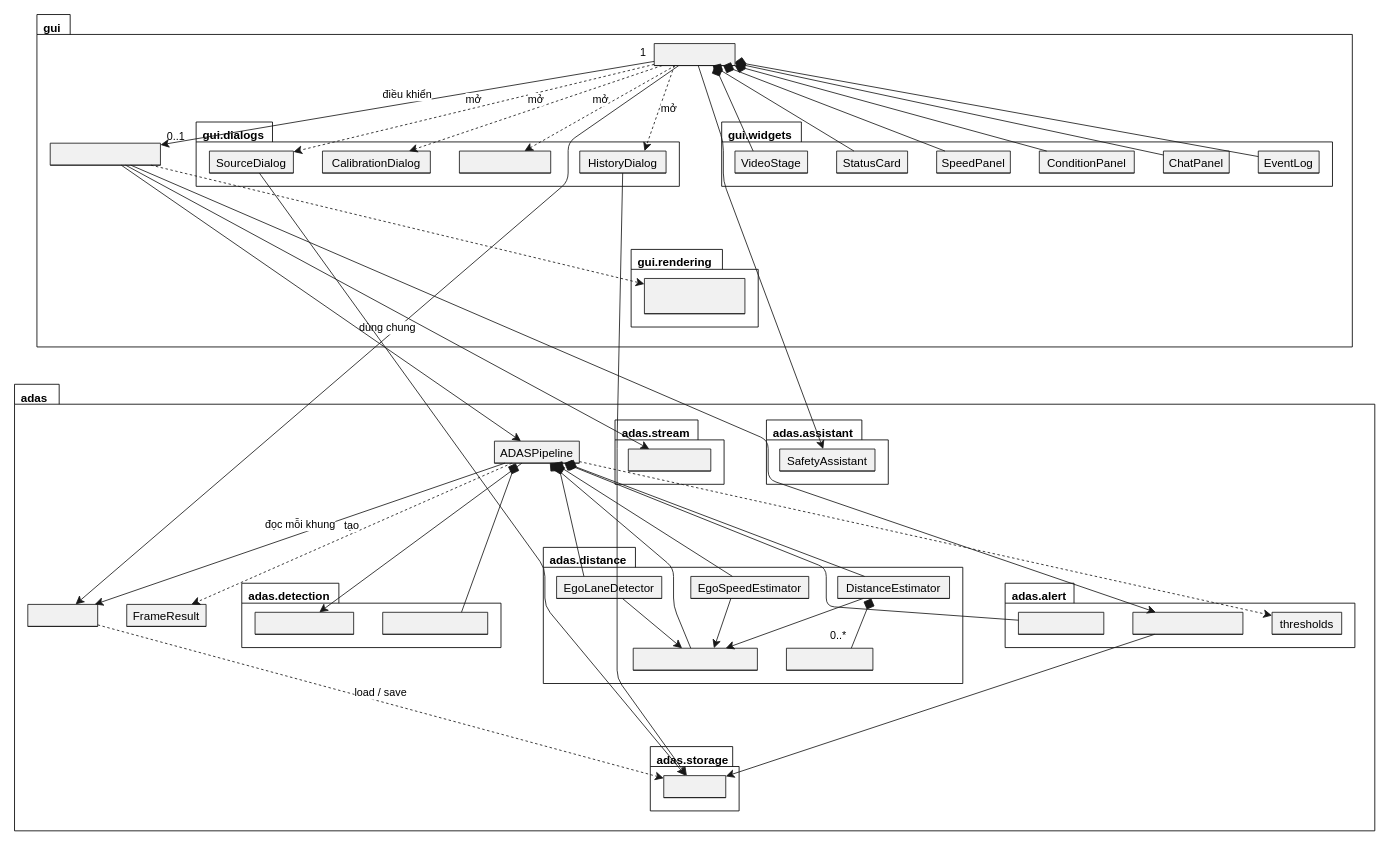
The diagram is 1389 pixels wide and 846 high, and some of its shapes have lost their labels. The centre of each missing label's shape, as x and y in pixels:
"AlertManager" goes at (x=1061, y=622).
"AppConfig" goes at (x=62, y=615).
"Database" goes at (x=694, y=786).
"FrameSource" goes at (x=669, y=459).
"GroundPlaneMapper" goes at (x=694, y=658).
"MainWindow" goes at (x=694, y=54).
"ProcessingWorker" goes at (x=104, y=153).
"RangeKalman" goes at (x=829, y=658).
"render_overlay() render_bev()" goes at (x=694, y=296).
"SettingsDialog" goes at (x=505, y=161).
"TemplateTracker" goes at (x=435, y=622).
"VehicleDetector" goes at (x=304, y=622).
"ViolationRecorder" goes at (x=1187, y=622).
